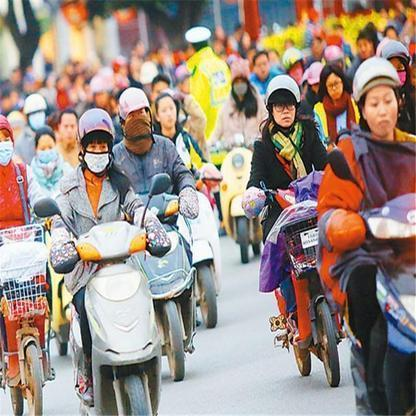target: (32, 108, 172, 411), (242, 72, 346, 390)
